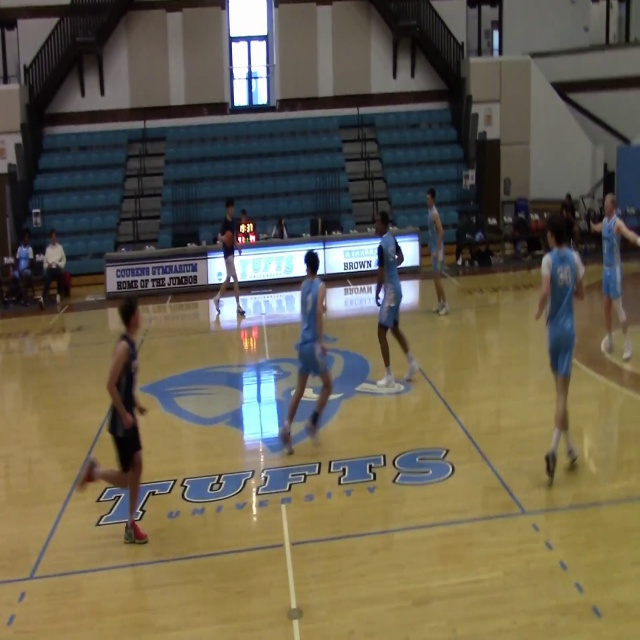Basketball: (222, 230, 234, 246)
